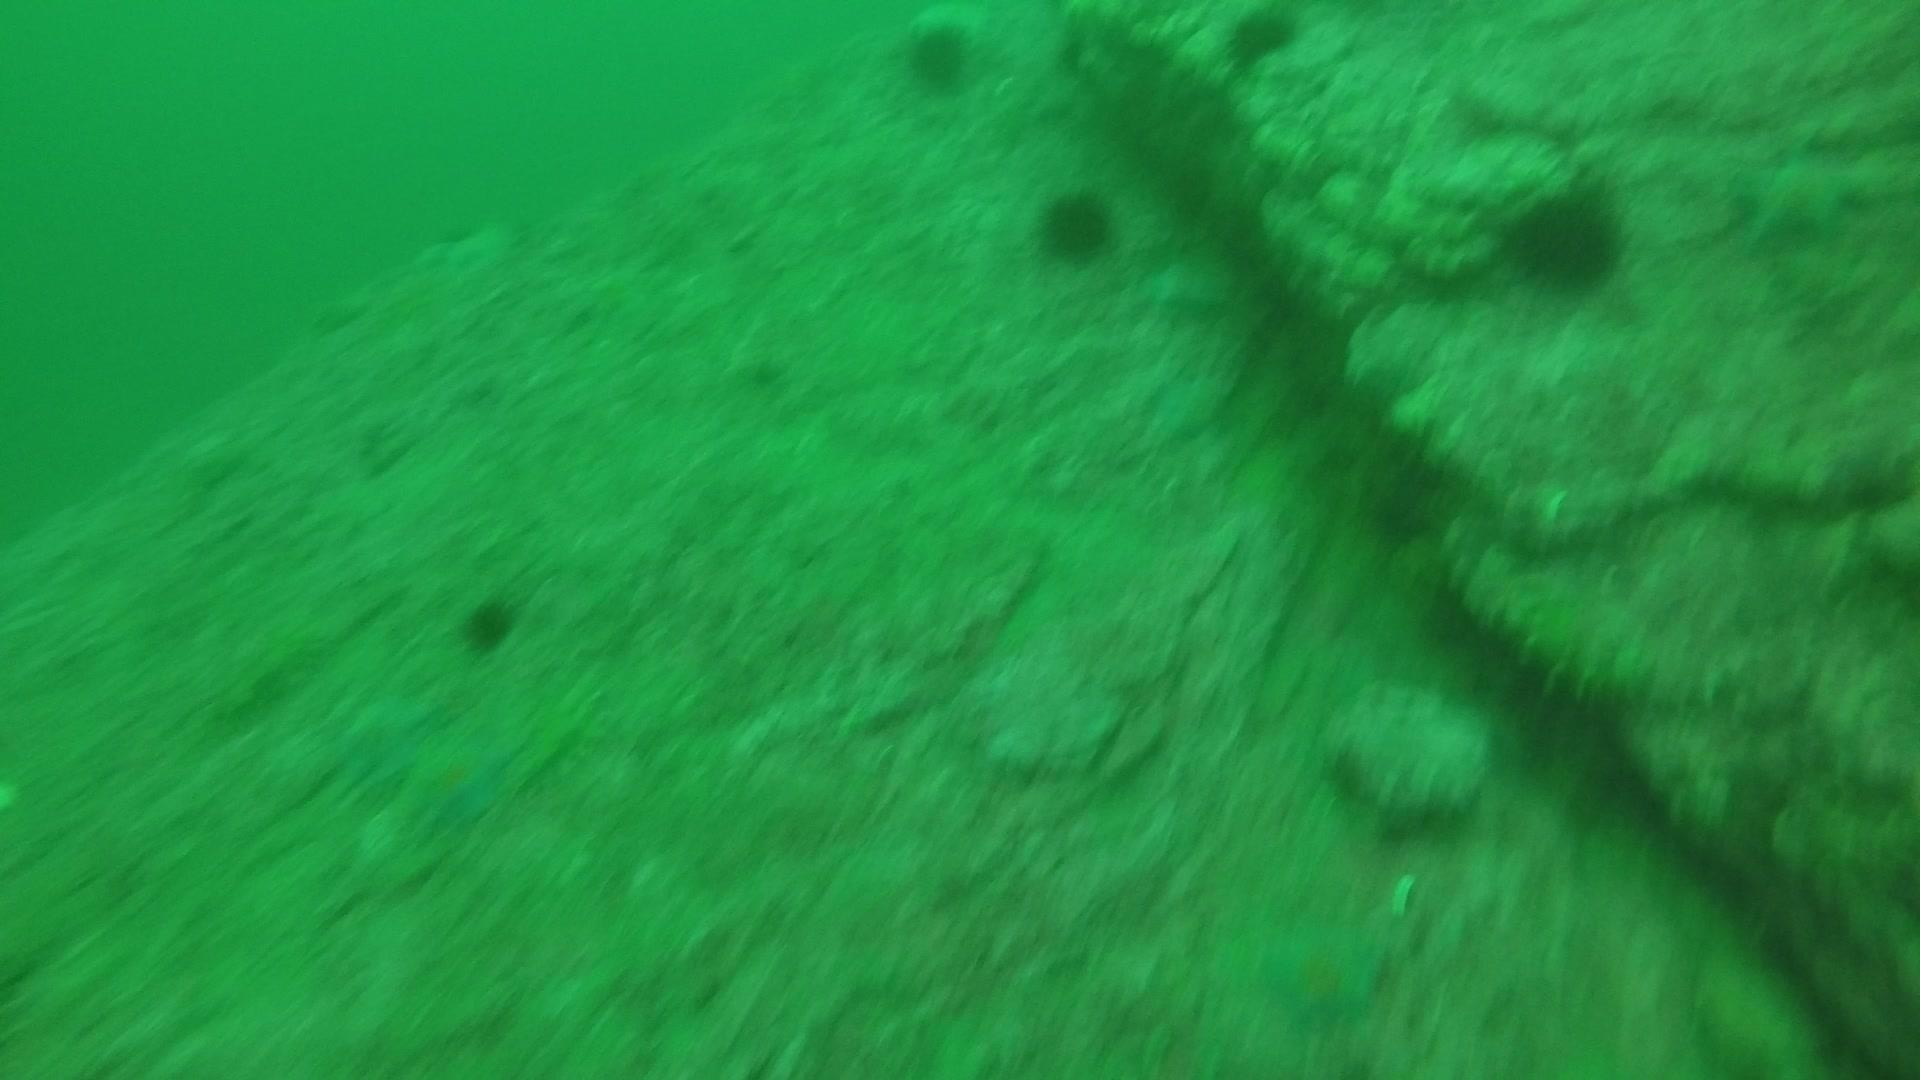echinus: (1501, 181, 1630, 295), (1033, 183, 1120, 266), (895, 18, 981, 98), (1220, 4, 1305, 69), (454, 591, 524, 655)
holothurian: (1443, 538, 1739, 737)
starfish: (1255, 909, 1394, 1033), (1730, 138, 1878, 253), (316, 684, 440, 800), (393, 727, 520, 836)
